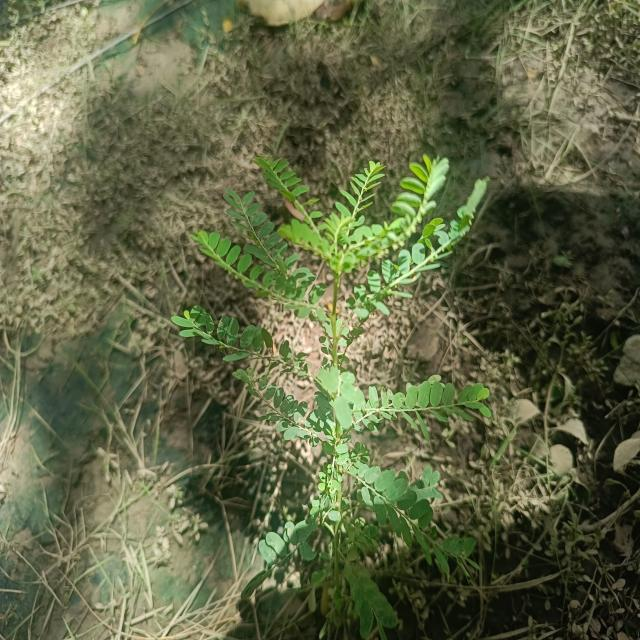weed: (172, 155, 522, 635)
